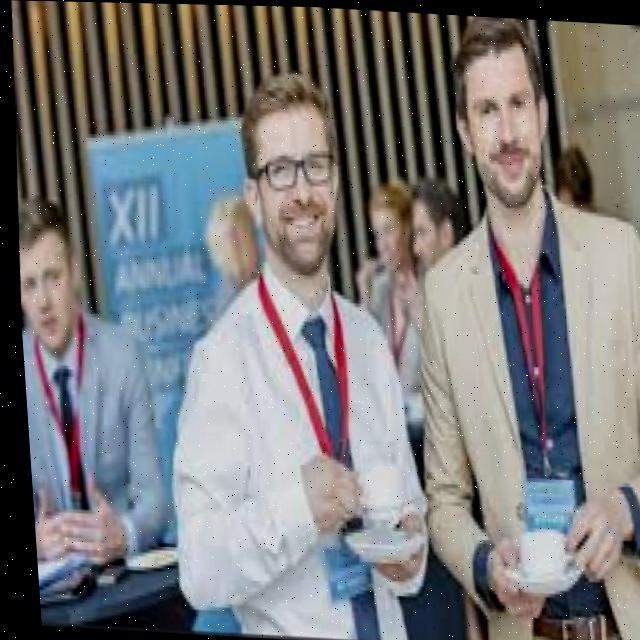id_card: (227, 254, 386, 597), (467, 206, 597, 550), (17, 332, 97, 498)
